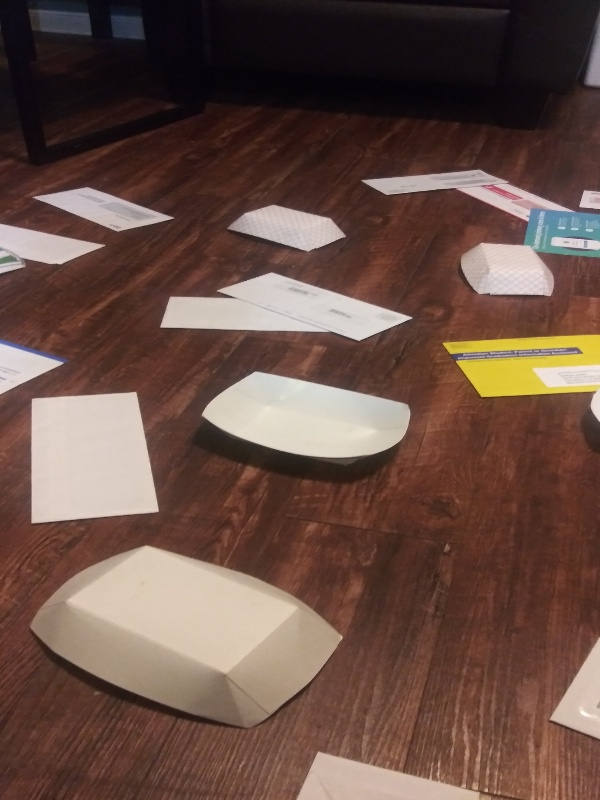plate: (22, 540, 351, 732), (196, 369, 416, 473), (224, 201, 351, 256), (452, 241, 559, 300), (1, 240, 28, 278)
